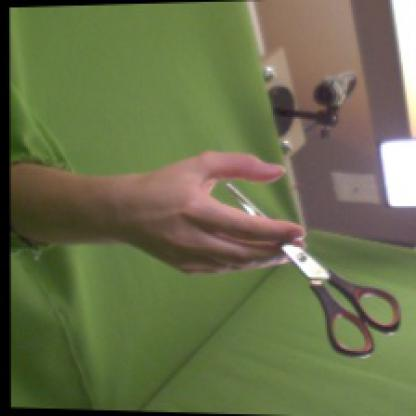Hand: (125, 151, 307, 277)
